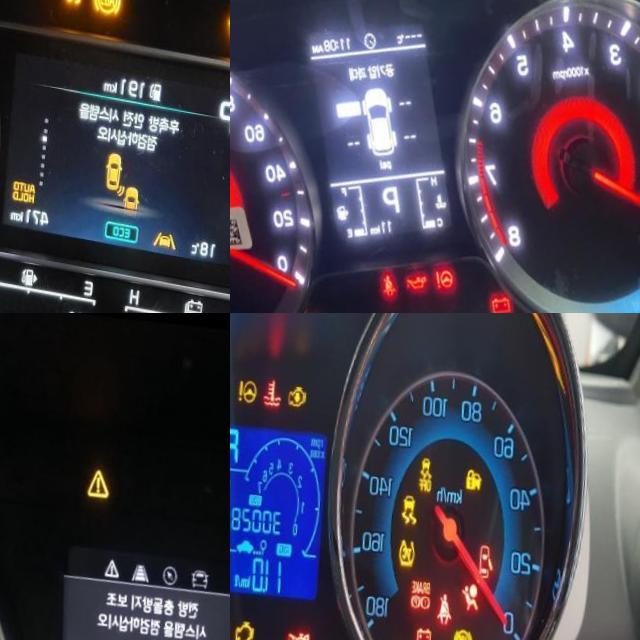Central Warning lamp: (89, 461, 117, 494)
Doors: (486, 526, 503, 565)
Engine cooling system: (268, 369, 291, 401)
Low fuel level: (230, 606, 240, 638)
